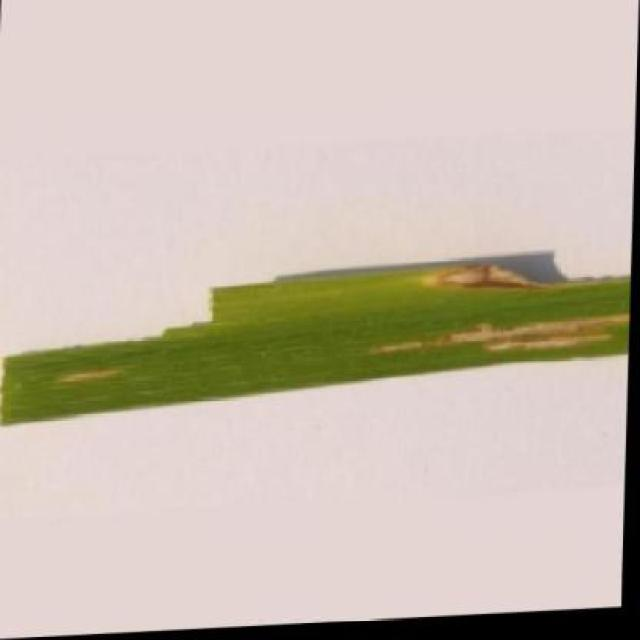Brown_Spot: (0, 254, 632, 434)
